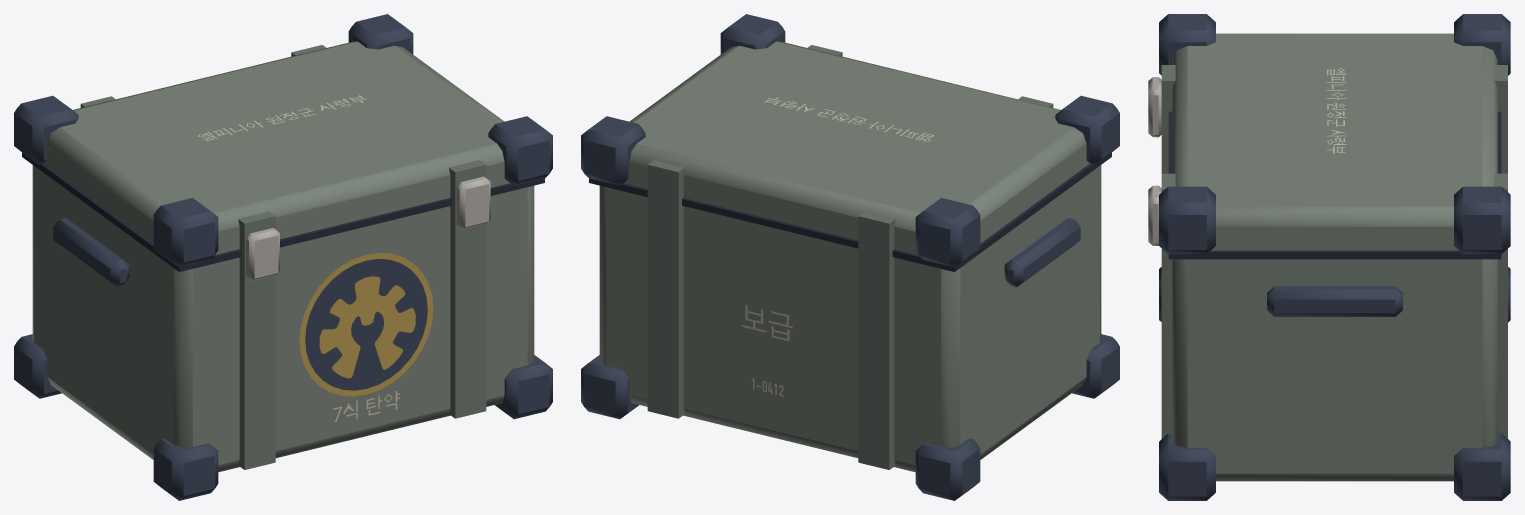
File: ship_crate.glb
The picture shows the model from 3 angles, left to right: view 1: azimuth 30°, elevation 25°; view 2: azimuth 150°, elevation 25°; view 3: azimuth 270°, elevation 25°; orthographic projection. The views are drawn at different scales.
Visible parts, largest first — view 1: ship_crate_vc, ship_crate_vcd_detail, ship_crate_vc_fine, ship_crate_vcd_fine, ship_crate_vcd, ship_crate_vc_detail; view 2: ship_crate_vc, ship_crate_vcd_detail, ship_crate_vcd, ship_crate_vc_fine; view 3: ship_crate_vc, ship_crate_vcd_detail, ship_crate_vcd, ship_crate_vc_detail, ship_crate_vc_fine.
Part boxes in pixels (box(x1,y1,x2,y2)): ship_crate_vc: box(32, 41, 534, 472); ship_crate_vcd_detail: box(14, 14, 552, 500); ship_crate_vc_fine: box(198, 95, 433, 422); ship_crate_vcd_fine: box(305, 259, 427, 390); ship_crate_vcd: box(22, 152, 544, 271); ship_crate_vc_detail: box(246, 176, 490, 280); ship_crate_vc: box(599, 41, 1101, 472); ship_crate_vcd_detail: box(581, 14, 1119, 500); ship_crate_vcd: box(589, 152, 1111, 271); ship_crate_vc_fine: box(742, 97, 933, 396); ship_crate_vc: box(1161, 33, 1507, 481); ship_crate_vcd_detail: box(1159, 14, 1510, 500); ship_crate_vcd: box(1168, 111, 1501, 259); ship_crate_vc_detail: box(1148, 77, 1161, 245); ship_crate_vc_fine: box(1326, 68, 1346, 153).
Size of the model in its own units: 0.65 by 0.435 by 0.4795.
